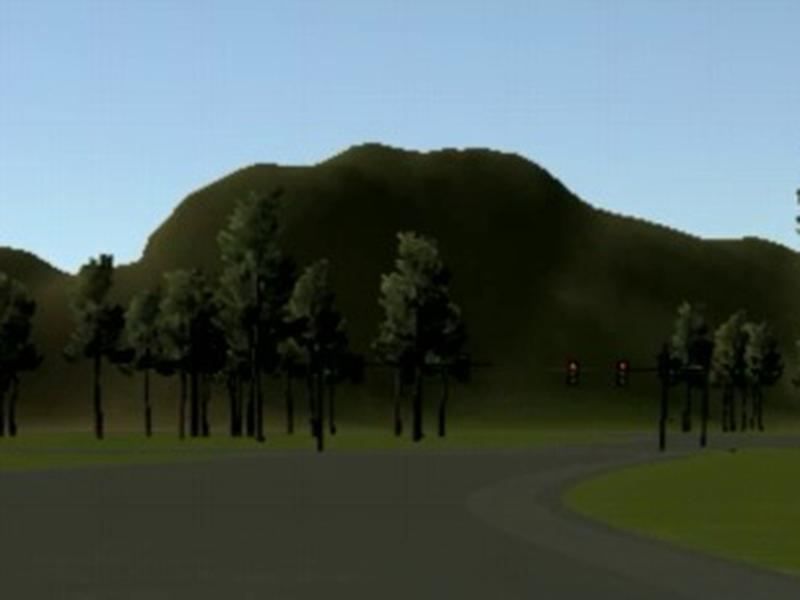Red: (616, 359, 628, 391), (567, 361, 579, 388)
